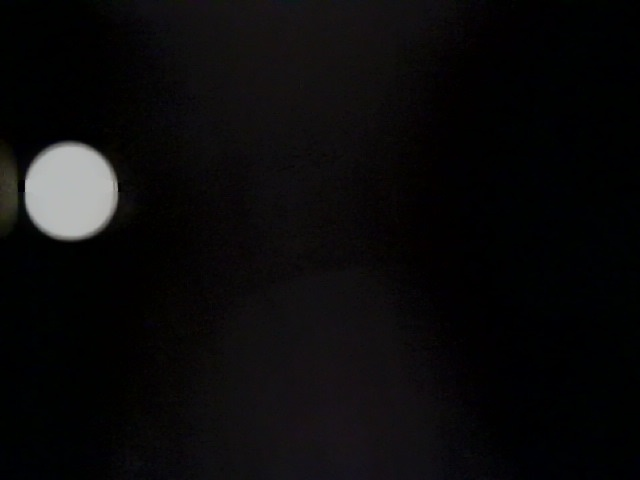QTLJ: (74, 306, 273, 477)
